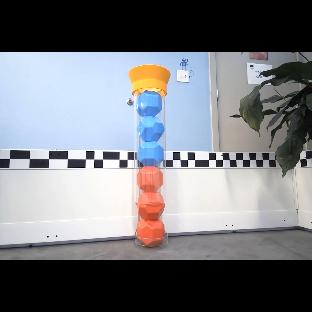V5_BLUE: (136, 116, 164, 141), (138, 141, 164, 167), (136, 90, 162, 116)
V5_RED: (137, 219, 165, 247), (138, 192, 165, 219), (137, 166, 163, 193)
